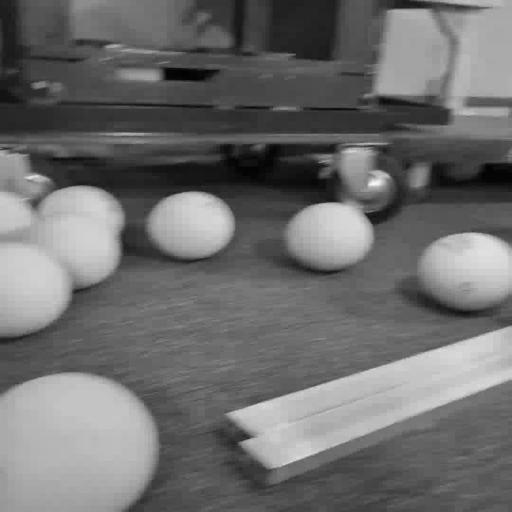fuel: (0, 373, 159, 511), (418, 233, 511, 311), (0, 242, 73, 338), (29, 214, 121, 289), (284, 202, 374, 272), (146, 192, 235, 260), (38, 186, 124, 234), (0, 191, 35, 241)
